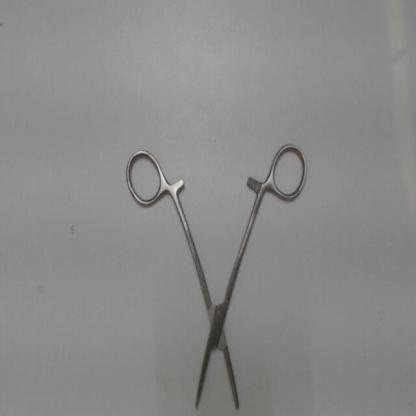Mayo Needle Holder: (121, 137, 314, 413)
